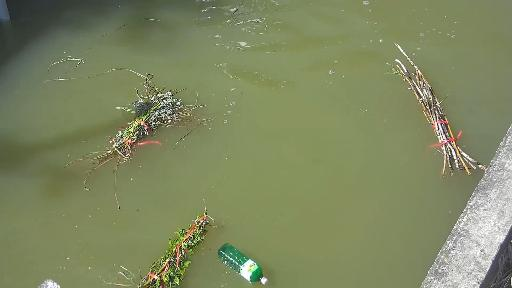plastic: (226, 242, 262, 288), (37, 278, 82, 286)
twig: (48, 15, 202, 184), (387, 48, 494, 184), (110, 202, 219, 288), (230, 0, 256, 16)
